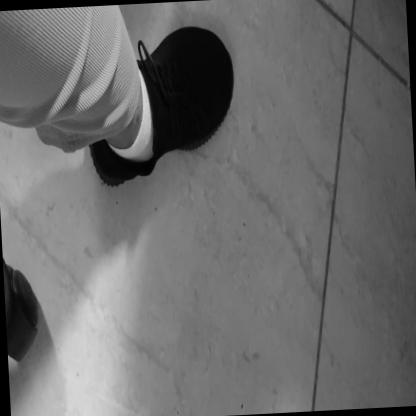ankle: (133, 141, 135, 146)
heel: (94, 154, 96, 161)
pinky: (198, 32, 201, 37)
right_foot: (84, 25, 240, 188)
toe: (223, 96, 227, 104)
